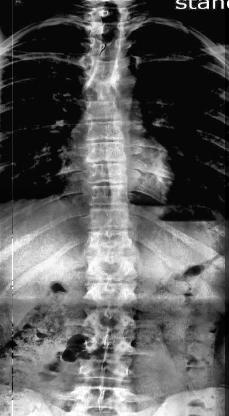Vertebrae: (76, 353, 134, 383), (83, 278, 139, 309), (82, 304, 138, 334), (80, 93, 134, 121), (80, 332, 136, 359), (86, 251, 138, 280), (80, 116, 133, 142), (81, 74, 133, 100), (83, 139, 131, 167), (85, 206, 133, 233), (85, 181, 131, 209), (86, 228, 132, 256), (86, 34, 130, 60), (83, 162, 130, 186), (86, 55, 130, 79)
